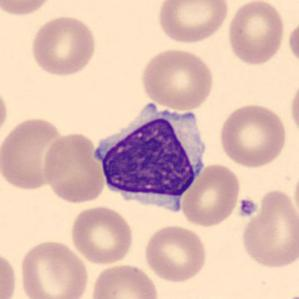Lymphocyte: (88, 98, 212, 221)
Platelets: (237, 196, 259, 219)
RBC: (0, 114, 71, 192), (41, 130, 107, 205), (139, 46, 215, 111), (217, 101, 288, 170), (239, 187, 298, 270), (28, 13, 99, 78), (16, 238, 90, 299), (179, 162, 242, 228), (68, 204, 135, 266), (225, 0, 287, 67), (142, 223, 208, 283), (155, 0, 230, 45), (88, 261, 161, 299), (0, 246, 19, 299), (0, 0, 54, 17), (288, 76, 299, 138), (0, 82, 10, 142), (287, 18, 298, 69)
